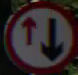Two way: (7, 7, 69, 61)
